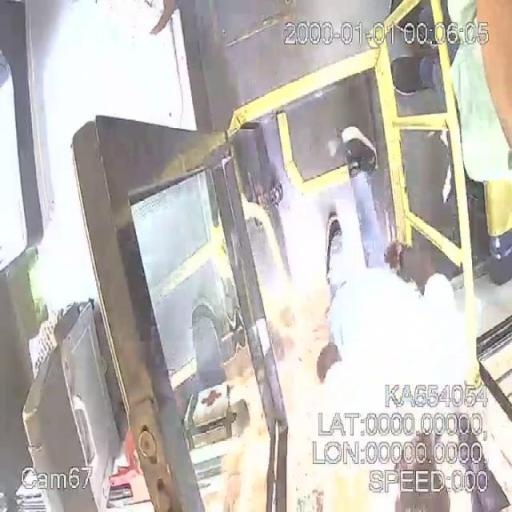persona: (312, 210, 508, 511)
